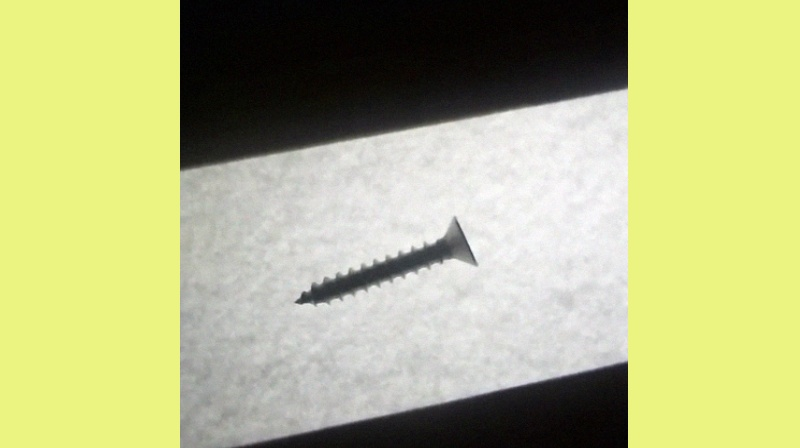S001: (289, 214, 481, 307)
